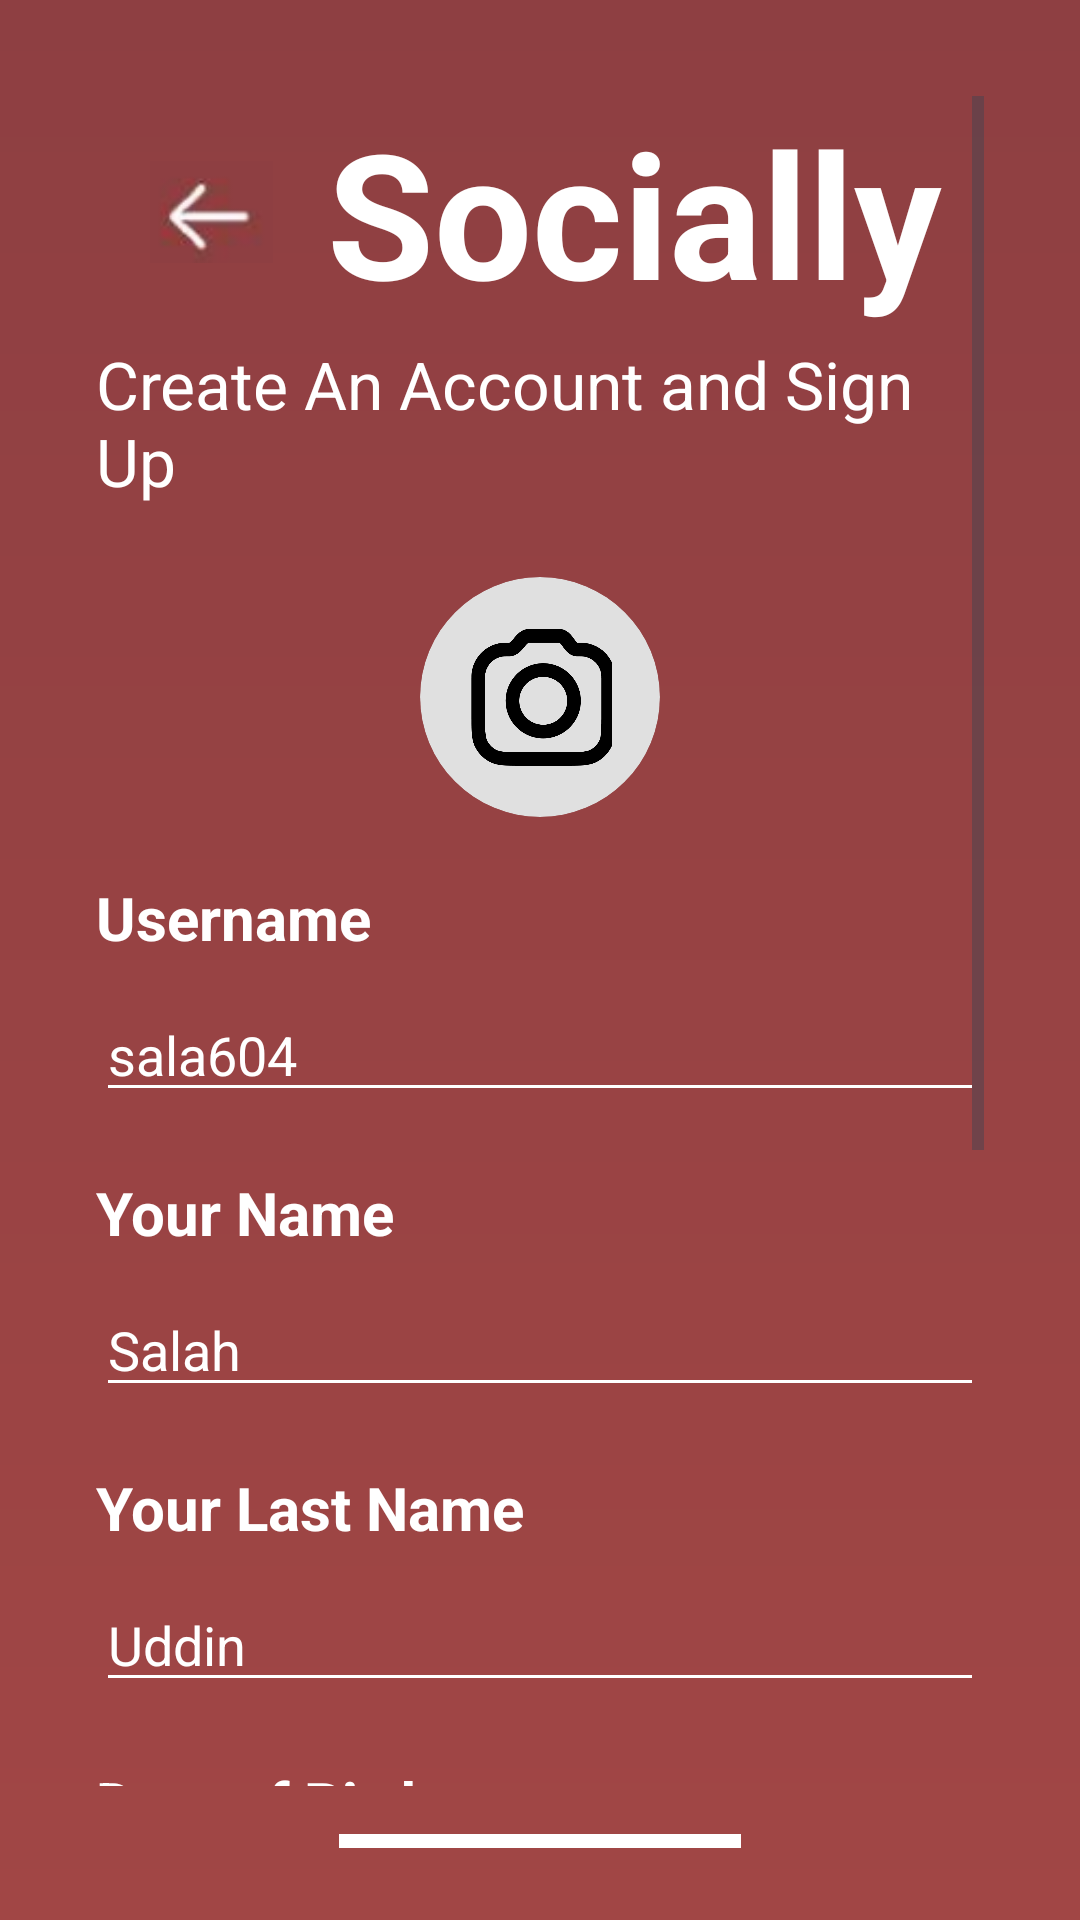

Icons on this 1080 x 1920 Android screen, each with the point to tap as [x,y]:
left arrow: [208,215]
Profile Image: [540,697]
